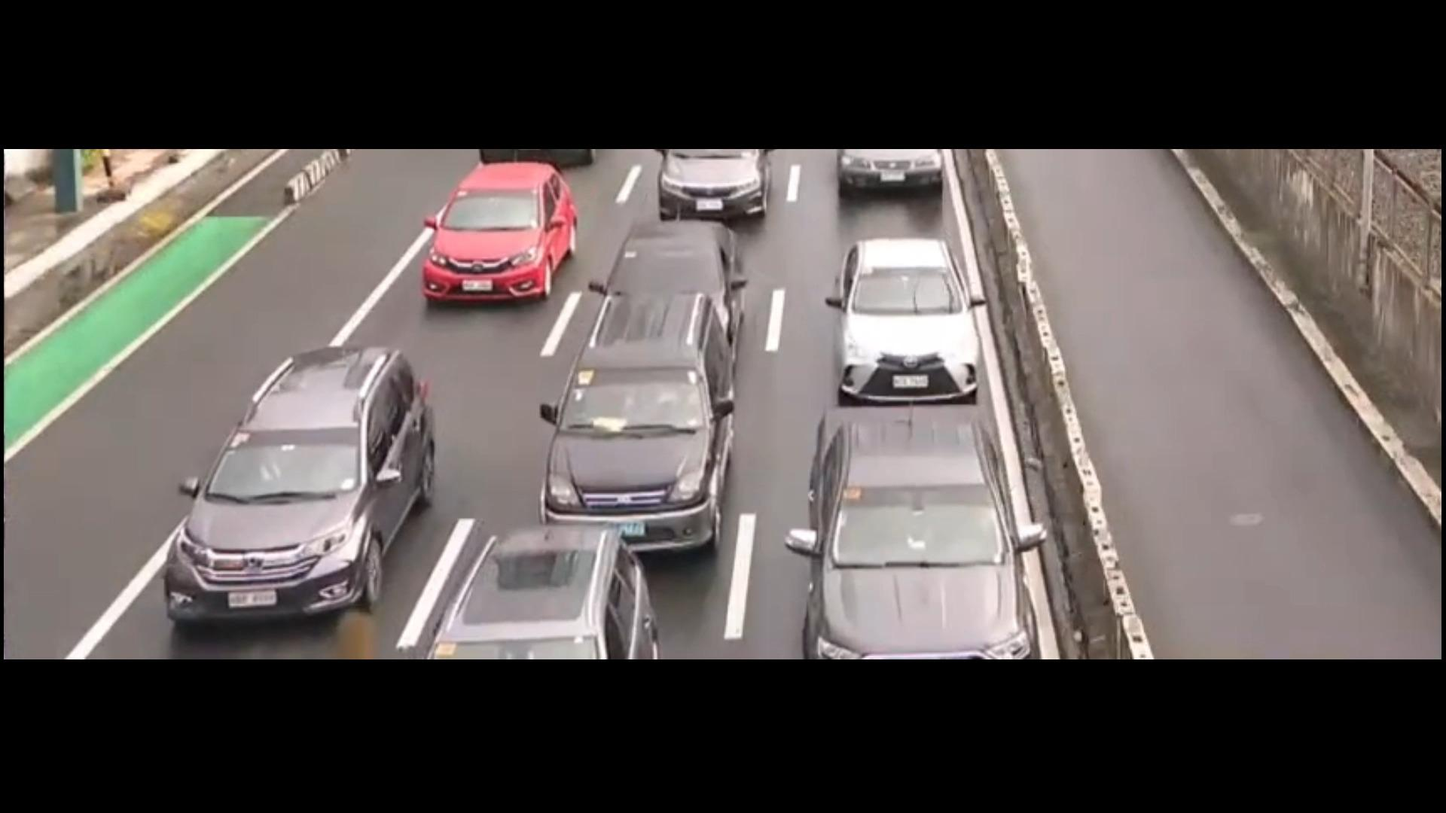Pickup: (783, 388, 1042, 657)
SUV: (153, 333, 462, 621), (527, 285, 757, 560)
Sedan: (832, 219, 994, 402), (406, 158, 580, 324), (591, 207, 755, 328)
